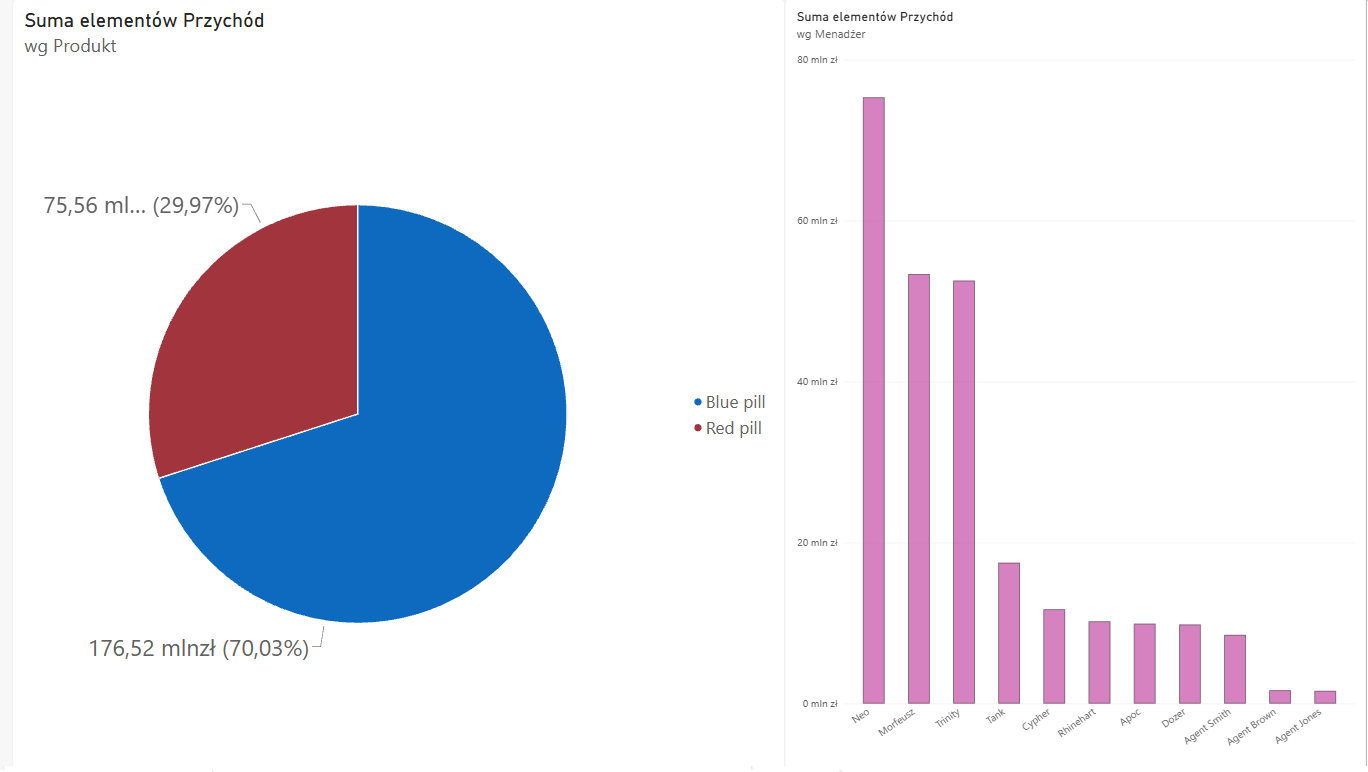

This screenshot's page, from the dashboard's own definition file:
{"tool":"powerbi","page":{"name":"Strona 1","canvas":[1920,1080],"ordinal":0},"visuals":[{"type":"pieChart","fields":{"Category":["tabSprzedaż.Produkt"],"Y":["Sum(tabSprzedaż.Przychód)"]},"box":[28.8,0,1078.6,1080.6],"z":0},{"type":"columnChart","fields":{"Category":["tabRegiony.Menadżer"],"Y":["Sum(tabSprzedaż.Przychód)"]},"box":[1107.4,0,813,1080.6],"z":1}]}

Visuals, with their boxes in screenshot pixels (x1, y1, x2, y2), scaled from the page's 1920x1080 canvas onto the 1368x772 screenshot:
pieChart - tabSprzedaż.Produkt x Sum(tabSprzedaż.Przychód): region(21, 0, 789, 771)
columnChart - tabRegiony.Menadżer x Sum(tabSprzedaż.Przychód): region(789, 0, 1367, 771)
